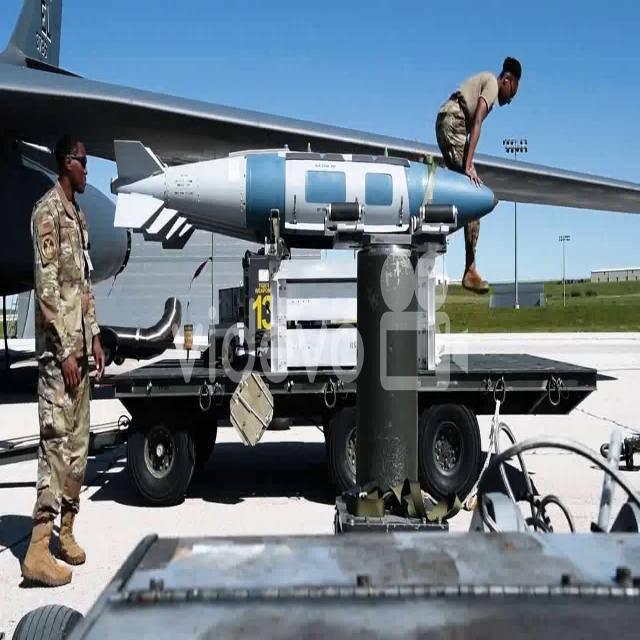rocket: (109, 126, 497, 247)
